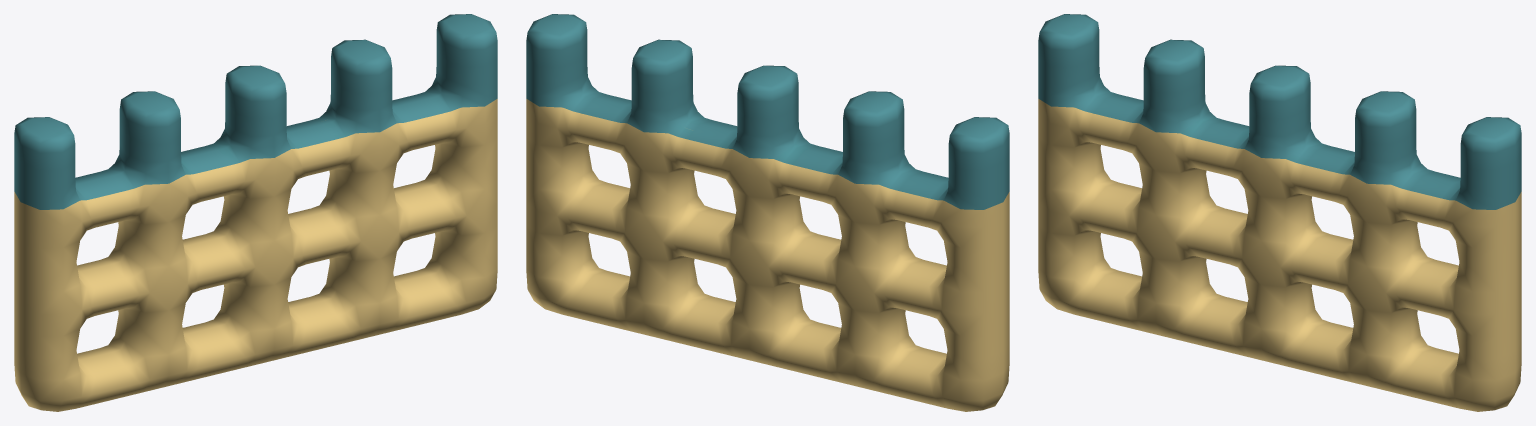
The model's file is fence.fbx.
The picture shows the model from 3 angles, left to right: view 1: azimuth 30°, elevation 25°; view 2: azimuth 150°, elevation 25°; view 3: azimuth 330°, elevation 25°; orthographic projection.
Visible parts, largest first — view 1: Fence; view 2: Fence; view 3: Fence.
Part boxes in pixels (x1=…): Fence: x1=14, y1=14, x2=497, y2=411; Fence: x1=526, y1=14, x2=1009, y2=411; Fence: x1=1038, y1=14, x2=1521, y2=411.
Size of the model in its own units: 741 by 425 by 104.
